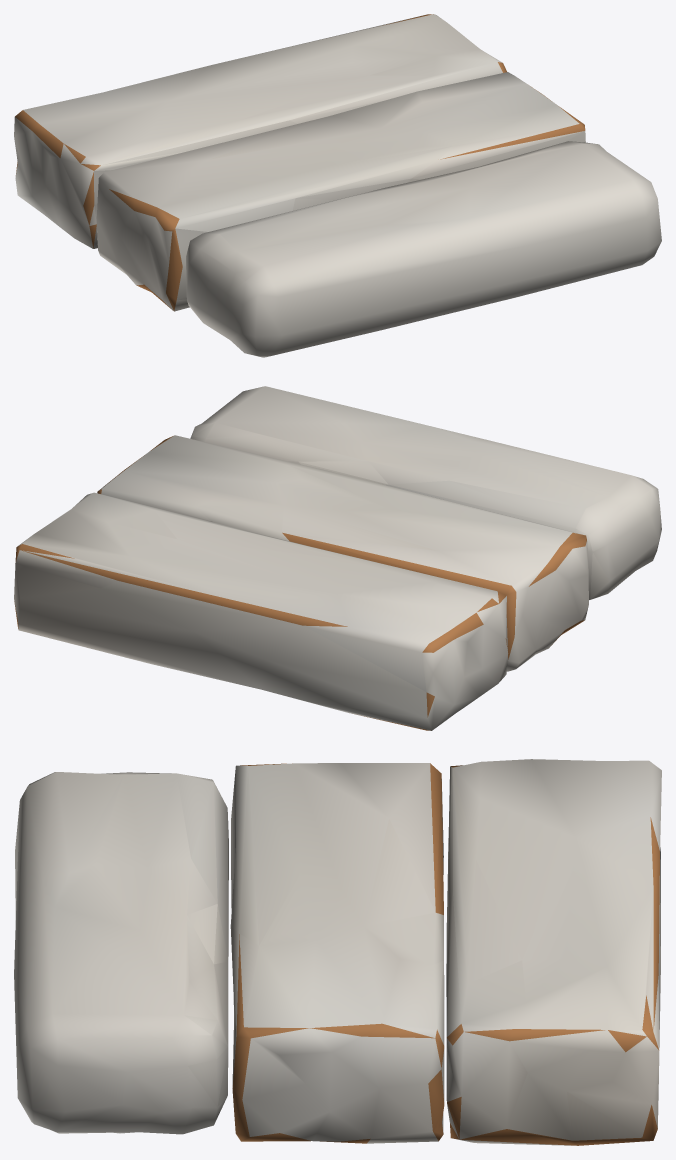
File: frost_sill_ledge_b_lod2.glb
3 views of the same model, one above another, from view 1: azimuth 30°, elevation 25°; view 2: azimuth 150°, elevation 25°; view 3: azimuth 270°, elevation 25° (orthographic). The views are drawn at different scales.
Visible parts, largest first — view 1: frost_sill_ledge_b.001; view 2: frost_sill_ledge_b.001; view 3: frost_sill_ledge_b.001.
Boxes of the visible parts, left/top/right/bottom form: frost_sill_ledge_b.001: left=14, top=14, right=661, bottom=357; frost_sill_ledge_b.001: left=14, top=386, right=661, bottom=730; frost_sill_ledge_b.001: left=14, top=759, right=661, bottom=1145.
Size of the model in its own units: 20.18 by 4.23 by 19.99.
